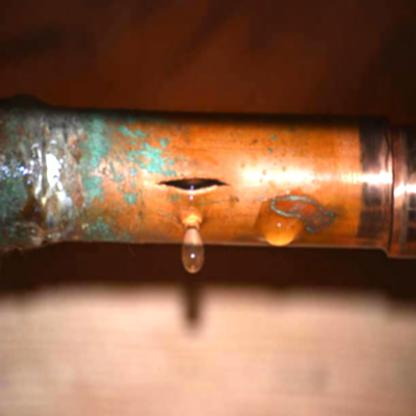burst: (151, 163, 241, 214)
